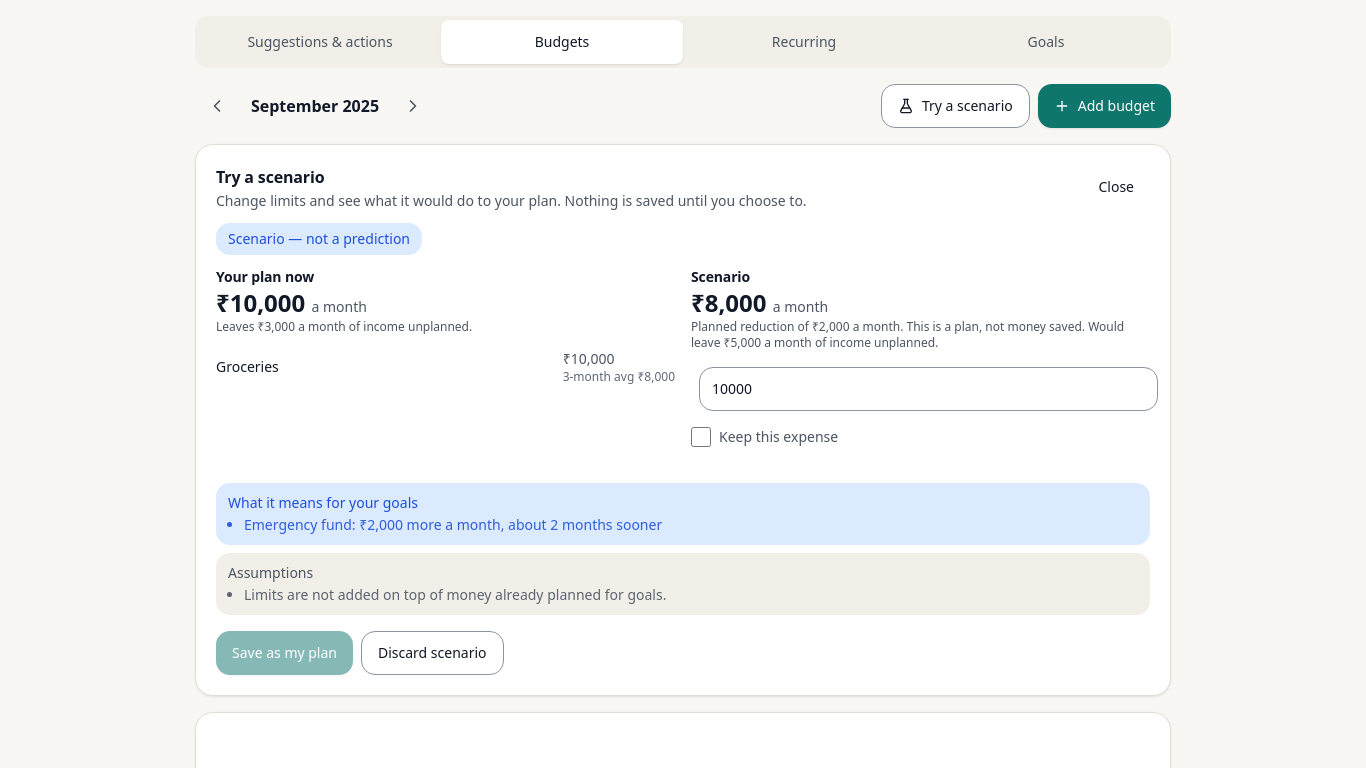
Test: Scenario editor › rejects an invalid scenario amount inline and blocks saving
Replace the text in the field named "Groceries limit (₹)" with "abc" at (928, 389), box [699,367,1158,411]
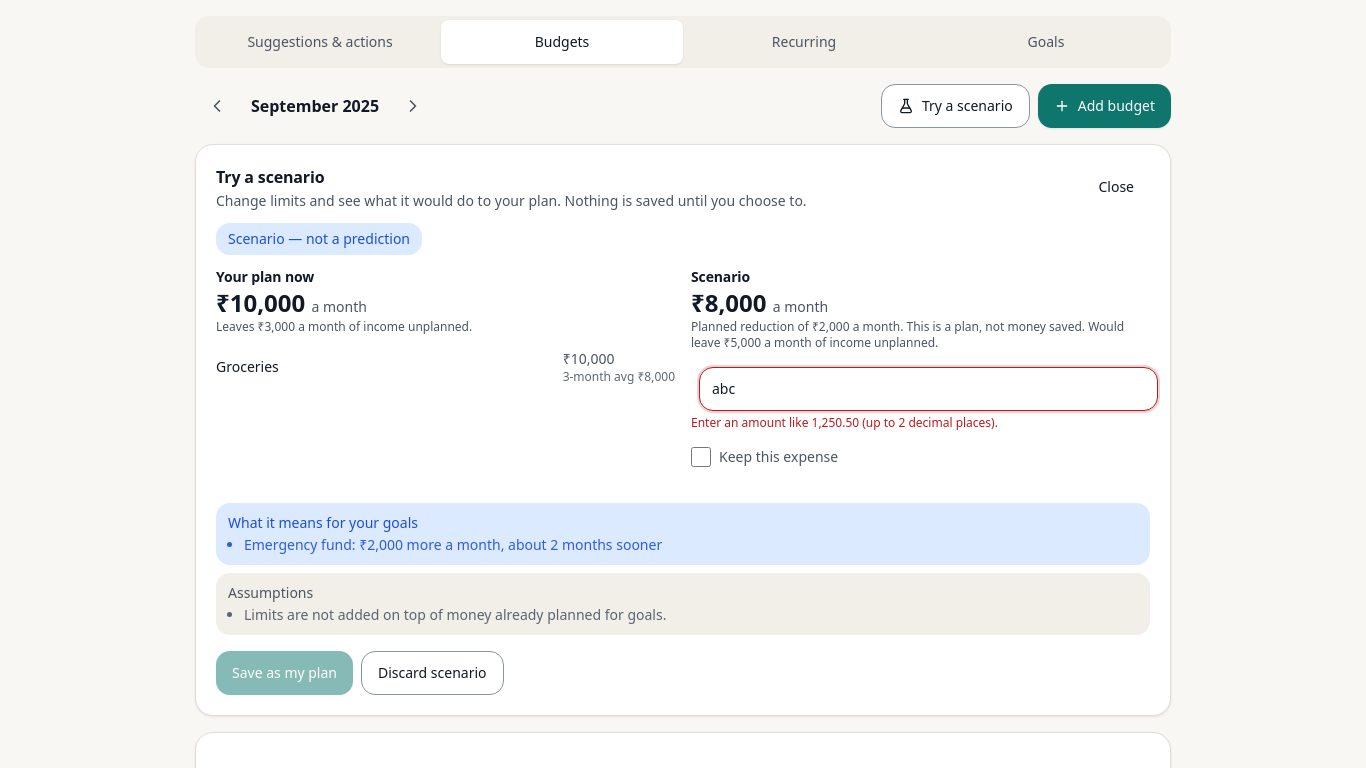
Now the text "Enter an amount like 1,250.50 (up to 2 decimal places)." is shown, box [691,414,998,431]
Now the button "Save as my plan" is disabled, box [216,651,353,695]
